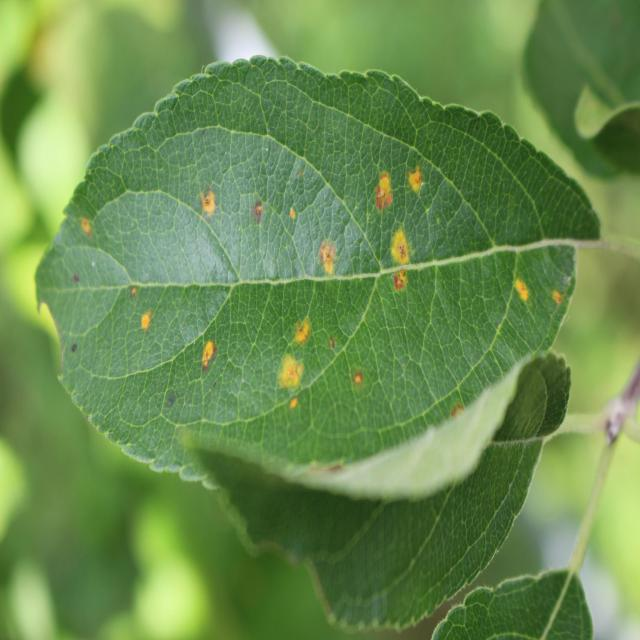Rust: (266, 347, 313, 413), (385, 225, 415, 313), (190, 310, 220, 390), (315, 233, 349, 294), (494, 266, 539, 309), (369, 157, 396, 225), (190, 174, 221, 228), (240, 183, 271, 235), (286, 300, 320, 345), (403, 152, 426, 218), (541, 278, 574, 320), (286, 189, 304, 244), (78, 206, 100, 248), (136, 302, 162, 336), (348, 366, 364, 390)
